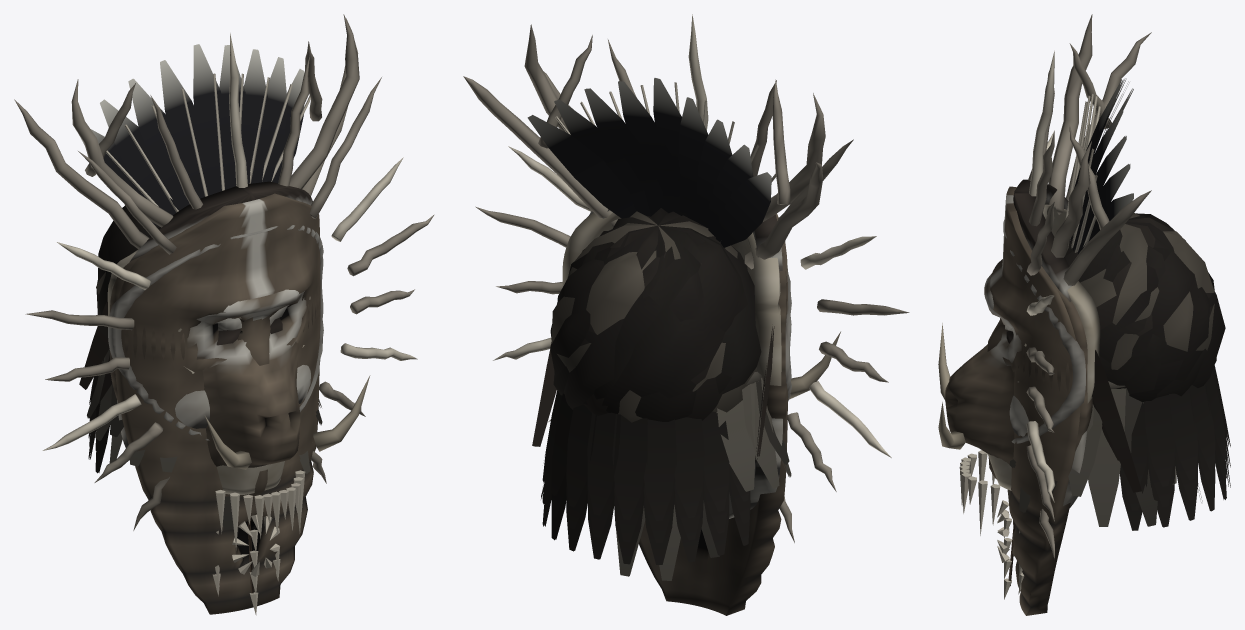
The model's file is masks.glb.
3 renders of one model, left to right at view 1: azimuth 30°, elevation 25°; view 2: azimuth 150°, elevation 25°; view 3: azimuth 270°, elevation 25°, orthographic. The views are drawn at different scales.
Visible parts, largest first — view 1: mask0, mask2, mask3, mask4, mask1, rags; view 2: mask3, mask2, mask0, mask1, mask4, rags; view 3: mask0, mask2, mask1, mask4, mask3, rags.
Part boxes in pixels (box(x1,y1,x2,y2)): mask0: box(71, 14, 359, 614); mask2: box(25, 33, 434, 530); mask3: box(79, 44, 310, 615); mask4: box(79, 255, 370, 469); mask1: box(14, 18, 358, 550); rags: box(87, 348, 322, 529); mask3: box(527, 78, 782, 518); mask2: box(475, 14, 909, 564); mask0: box(524, 24, 825, 615); mask1: box(463, 35, 822, 564); mask4: box(532, 216, 840, 462); rags: box(541, 371, 791, 580); mask0: box(987, 14, 1230, 615); mask2: box(1003, 51, 1230, 558); mask1: box(959, 32, 1230, 535); mask4: box(938, 217, 1216, 492); mask3: box(1004, 78, 1214, 599); rags: box(1009, 381, 1202, 526).
Size of the model in its own units: 0.6167 by 0.812 by 0.3904.
